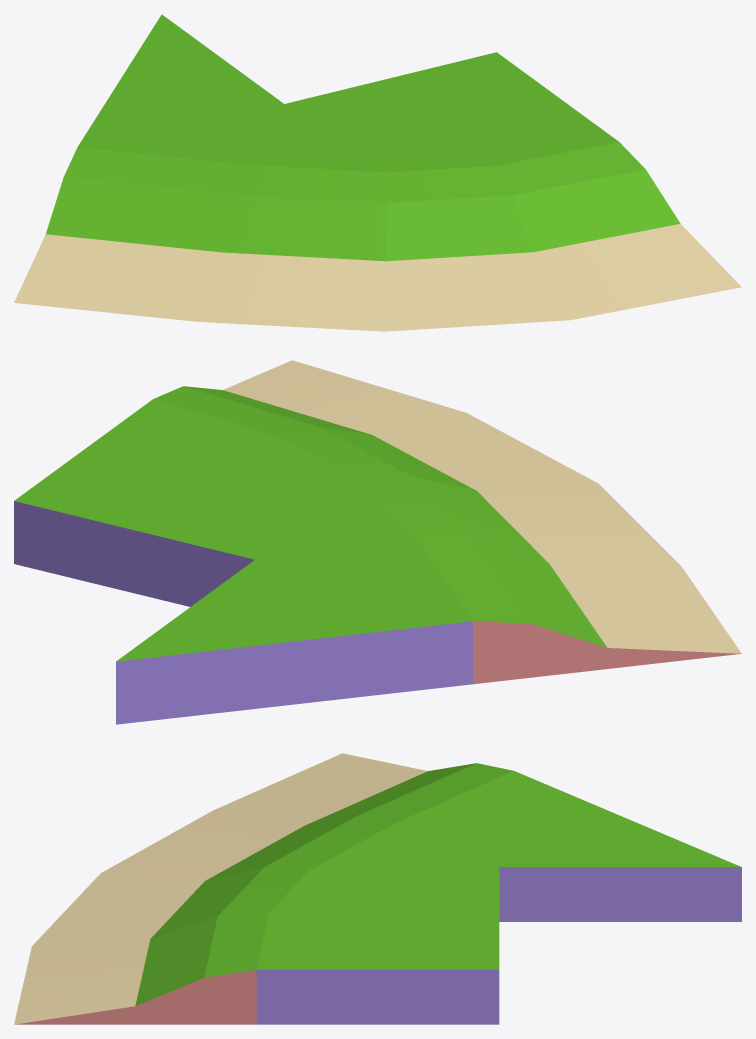
The model's file is Path_Terrain_45_Degrees_Curve_Inner_3x3.glb.
3 views of the same model, one above another, from view 1: azimuth 30°, elevation 25°; view 2: azimuth 150°, elevation 25°; view 3: azimuth 270°, elevation 25° (orthographic). The views are drawn at different scales.
Visible parts, largest first — view 1: Path_Terrain_45_Degrees_Curve_Inner_3x3; view 2: Path_Terrain_45_Degrees_Curve_Inner_3x3; view 3: Path_Terrain_45_Degrees_Curve_Inner_3x3.
Part boxes in pixels (<box>): Path_Terrain_45_Degrees_Curve_Inner_3x3: <box>14,14,741,331</box>; Path_Terrain_45_Degrees_Curve_Inner_3x3: <box>14,360,741,724</box>; Path_Terrain_45_Degrees_Curve_Inner_3x3: <box>14,753,741,1024</box>.
Bounding box in the file's own units: 265 × 25 × 300.
